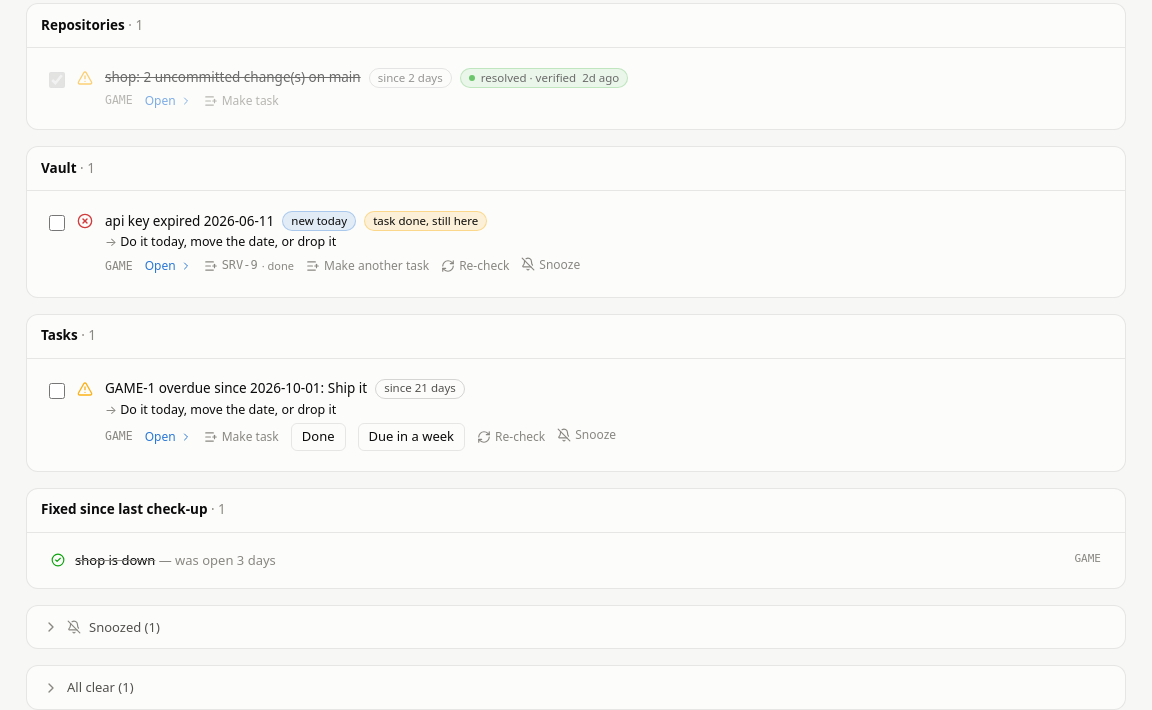
CheckupPage › applies a one-click fix and says whether the item is gone
(page scrolled)
Click the button "Due in a week". click: x=411, y=437
box: [358,423,465,451]
(page scrolled)
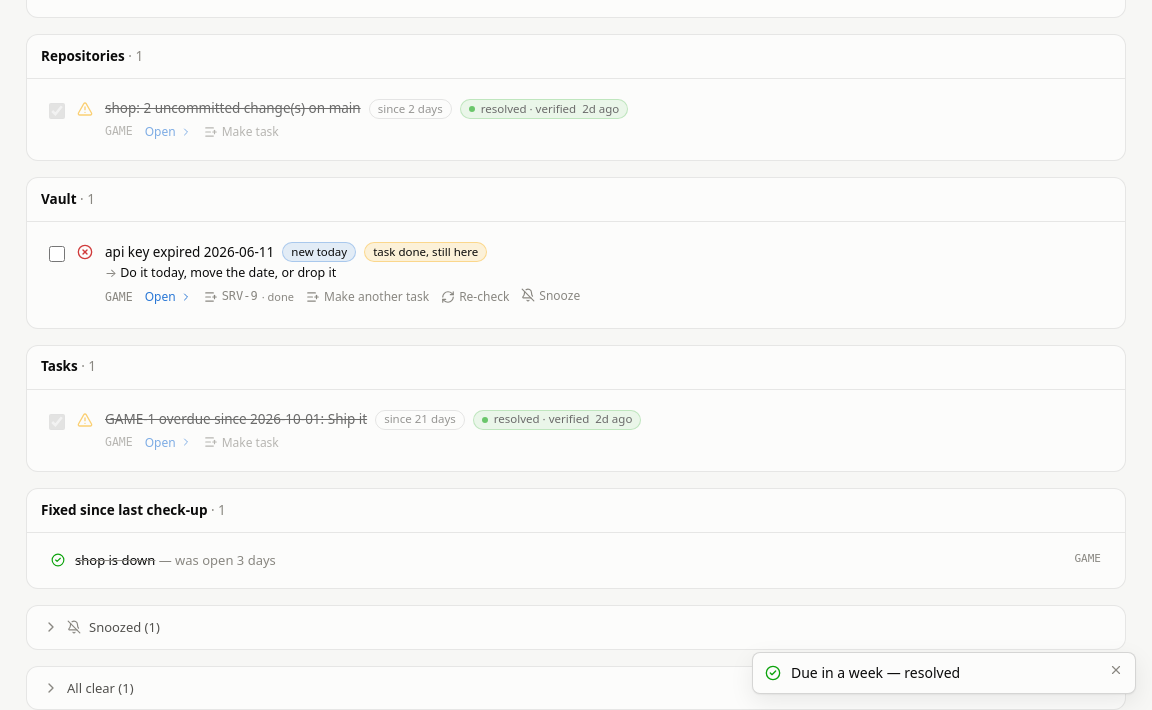
Check: the text "Due in a week — resolved" is shown, box [791,663,960,682]
